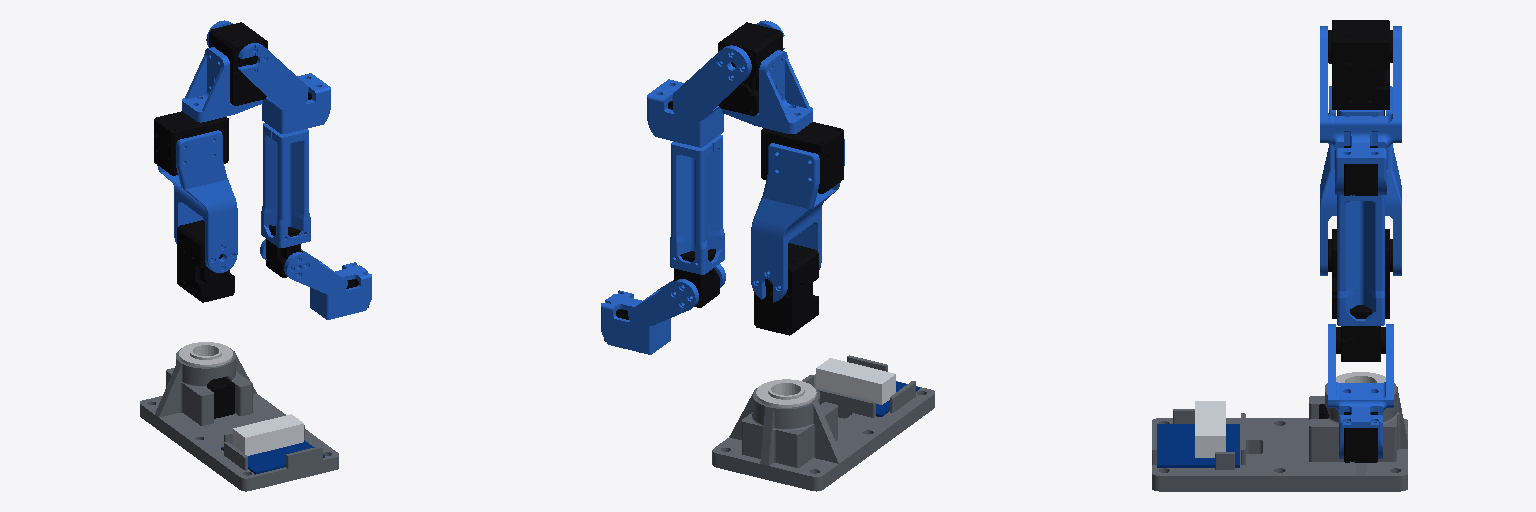
URDF robot description (ditto_leader_3xm_link5b):
<?xml version="1.0"?>
<!-- FACTR-style leader arm for the uFactory xArm7, 1:2 scale, variant 3xm, link 5 option b. Generated by leader/build.py. -->
<!-- Joint frames are the xArm7 joint frames with every length halved: same joint vector => same pose. -->
<!-- Inertial values are estimates from CAD volume and nominal servo masses. -->
<!-- link7 is the tool flange (servo 7 horn): the arm ends there, no handle or gripper is included. -->
<robot name="ditto_leader_3xm_link5b">
  <material name="print_reused"><color rgba="0.42 0.44 0.48 1"/></material>
  <material name="print_new"><color rgba="0.20 0.45 0.85 1"/></material>
  <material name="servo"><color rgba="0.09 0.09 0.10 1"/></material>
  <material name="steel"><color rgba="0.75 0.76 0.78 1"/></material>
  <material name="pcb"><color rgba="0.05 0.25 0.55 1"/></material>
  <material name="u2d2"><color rgba="0.85 0.87 0.90 1"/></material>
  <link name="base_link">
    <visual>
      <origin xyz="0.000000000 0.000000000 0.000000000" rpy="0.000000000000 -0.000000000000 0.000000000000"/>
      <geometry><mesh filename="meshes/factr_base.stl" scale="0.001 0.001 0.001"/></geometry>
      <material name="print_reused"/>
    </visual>
    <visual>
      <origin xyz="0.000000000 0.000000000 0.000000000" rpy="0.000000000000 -0.000000000000 0.000000000000"/>
      <geometry><mesh filename="meshes/bearing_3_4in.stl" scale="0.001 0.001 0.001"/></geometry>
      <material name="steel"/>
    </visual>
    <visual>
      <origin xyz="0.000000000 0.000000000 0.000000000" rpy="0.000000000000 -0.000000000000 0.000000000000"/>
      <geometry><mesh filename="meshes/servo1_xc330.stl" scale="0.001 0.001 0.001"/></geometry>
      <material name="servo"/>
    </visual>
    <visual>
      <origin xyz="0.000000000 0.000000000 0.000000000" rpy="0.000000000000 -0.000000000000 0.000000000000"/>
      <geometry><mesh filename="meshes/power_hub_board.stl" scale="0.001 0.001 0.001"/></geometry>
      <material name="pcb"/>
    </visual>
    <visual>
      <origin xyz="0.000000000 0.000000000 0.000000000" rpy="0.000000000000 -0.000000000000 0.000000000000"/>
      <geometry><mesh filename="meshes/u2d2.stl" scale="0.001 0.001 0.001"/></geometry>
      <material name="u2d2"/>
    </visual>
    <collision>
      <origin xyz="0.000000000 0.000000000 0.000000000" rpy="0.000000000000 -0.000000000000 0.000000000000"/>
      <geometry><mesh filename="meshes/factr_base.stl" scale="0.001 0.001 0.001"/></geometry>
      
    </collision>
  </link>
  <link name="link1">
    <inertial>
      <origin xyz="-0.000000 -0.000000 -0.023192" rpy="0 0 0"/>
      <mass value="0.11109"/>
      <inertia ixx="7.9205e-05" ixy="3.7288e-15" ixz="-3.6903e-17" iyy="7.8156e-05" iyz="-2.8443e-09" izz="2.1080e-05"/>
    </inertial>
    <visual>
      <origin xyz="0.000000000 0.000000000 0.000000000" rpy="0.000000000000 -0.000000000000 0.000000000000"/>
      <geometry><mesh filename="meshes/link1.stl" scale="0.001 0.001 0.001"/></geometry>
      <material name="print_new"/>
    </visual>
    <collision>
      <origin xyz="0.000000000 0.000000000 0.000000000" rpy="0.000000000000 -0.000000000000 0.000000000000"/>
      <geometry><mesh filename="meshes/link1.stl" scale="0.001 0.001 0.001"/></geometry>
      
    </collision>
    <visual>
      <origin xyz="0.000000000 0.000000000 0.000000000" rpy="-1.570796326795 -0.000000000000 -0.000000000000"/>
      <geometry><mesh filename="meshes/xm430.stl" scale="0.001 0.001 0.001"/></geometry>
      <material name="servo"/>
    </visual>
    <collision>
      <origin xyz="0.000000000 0.000000000 -0.012000000" rpy="-1.570796326795 -0.000000000000 -0.000000000000"/>
      <geometry><box size="0.02820 0.04620 0.03370"/></geometry>
    </collision>
  </link>
  <link name="link2">
    <inertial>
      <origin xyz="-0.010090 -0.073403 -0.000052" rpy="0 0 0"/>
      <mass value="0.11747"/>
      <inertia ixx="7.2159e-05" ixy="-9.5948e-06" ixz="6.2016e-08" iyy="3.3283e-05" iyz="4.8195e-07" izz="7.8107e-05"/>
    </inertial>
    <visual>
      <origin xyz="0.000000000 0.000000000 0.000000000" rpy="0.000000000000 -0.000000000000 0.000000000000"/>
      <geometry><mesh filename="meshes/3xm/link2.stl" scale="0.001 0.001 0.001"/></geometry>
      <material name="print_new"/>
    </visual>
    <collision>
      <origin xyz="0.000000000 0.000000000 0.000000000" rpy="0.000000000000 -0.000000000000 0.000000000000"/>
      <geometry><mesh filename="meshes/3xm/link2.stl" scale="0.001 0.001 0.001"/></geometry>
      
    </collision>
    <visual>
      <origin xyz="0.000000000 -0.084250000 0.000000000" rpy="0.000000000000 -1.570796326795 1.570796326795"/>
      <geometry><mesh filename="meshes/xm430.stl" scale="0.001 0.001 0.001"/></geometry>
      <material name="servo"/>
    </visual>
    <collision>
      <origin xyz="-0.012000000 -0.084250000 0.000000000" rpy="0.000000000000 -1.570796326795 1.570796326795"/>
      <geometry><box size="0.02820 0.04620 0.03370"/></geometry>
    </collision>
  </link>
  <link name="link3">
    <inertial>
      <origin xyz="0.023576 0.000000 -0.015003" rpy="0 0 0"/>
      <mass value="0.10004"/>
      <inertia ixx="3.1278e-05" ixy="2.2079e-22" ixz="-4.1165e-06" iyy="3.3821e-05" iyz="-5.8115e-23" izz="2.0995e-05"/>
    </inertial>
    <visual>
      <origin xyz="0.000000000 0.000000000 0.000000000" rpy="0.000000000000 -0.000000000000 0.000000000000"/>
      <geometry><mesh filename="meshes/3xm/link3.stl" scale="0.001 0.001 0.001"/></geometry>
      <material name="print_new"/>
    </visual>
    <collision>
      <origin xyz="0.000000000 0.000000000 0.000000000" rpy="0.000000000000 -0.000000000000 0.000000000000"/>
      <geometry><mesh filename="meshes/3xm/link3.stl" scale="0.001 0.001 0.001"/></geometry>
      
    </collision>
    <visual>
      <origin xyz="0.026250000 0.000000000 0.000000000" rpy="-1.570796326795 0.000000000000 -3.141592653590"/>
      <geometry><mesh filename="meshes/xm430.stl" scale="0.001 0.001 0.001"/></geometry>
      <material name="servo"/>
    </visual>
    <collision>
      <origin xyz="0.026250000 0.000000000 -0.012000000" rpy="-1.570796326795 0.000000000000 -3.141592653590"/>
      <geometry><box size="0.02820 0.04620 0.03370"/></geometry>
    </collision>
  </link>
  <link name="link4">
    <inertial>
      <origin xyz="0.036651 -0.042677 -0.000165" rpy="0 0 0"/>
      <mass value="0.06131"/>
      <inertia ixx="3.0455e-05" ixy="1.3523e-05" ixz="-4.2318e-07" iyy="2.7591e-05" iyz="4.3157e-07" izz="3.6407e-05"/>
    </inertial>
    <visual>
      <origin xyz="0.000000000 0.000000000 0.000000000" rpy="0.000000000000 -0.000000000000 0.000000000000"/>
      <geometry><mesh filename="meshes/link4.stl" scale="0.001 0.001 0.001"/></geometry>
      <material name="print_new"/>
    </visual>
    <collision>
      <origin xyz="0.000000000 0.000000000 0.000000000" rpy="0.000000000000 -0.000000000000 0.000000000000"/>
      <geometry><mesh filename="meshes/link4.stl" scale="0.001 0.001 0.001"/></geometry>
      
    </collision>
    <visual>
      <origin xyz="0.038750000 -0.055500000 0.000000000" rpy="0.000000000000 1.570796326795 -1.570796326795"/>
      <geometry><mesh filename="meshes/xc330.stl" scale="0.001 0.001 0.001"/></geometry>
      <material name="servo"/>
    </visual>
    <collision>
      <origin xyz="0.046250000 -0.055500000 0.000000000" rpy="0.000000000000 1.570796326795 -1.570796326795"/>
      <geometry><box size="0.01970 0.03370 0.02270"/></geometry>
    </collision>
  </link>
  <link name="link5">
    <inertial>
      <origin xyz="0.000002 -0.000000 -0.038523" rpy="0 0 0"/>
      <mass value="0.05309"/>
      <inertia ixx="6.3570e-05" ixy="2.1139e-16" ixz="5.0445e-09" iyy="6.2750e-05" iyz="-9.0503e-16" izz="5.5747e-06"/>
    </inertial>
    <visual>
      <origin xyz="0.000000000 0.000000000 0.000000000" rpy="0.000000000000 -0.000000000000 0.000000000000"/>
      <geometry><mesh filename="meshes/link5b.stl" scale="0.001 0.001 0.001"/></geometry>
      <material name="print_new"/>
    </visual>
    <collision>
      <origin xyz="0.000000000 0.000000000 0.000000000" rpy="0.000000000000 -0.000000000000 0.000000000000"/>
      <geometry><mesh filename="meshes/link5b.stl" scale="0.001 0.001 0.001"/></geometry>
      
    </collision>
    <visual>
      <origin xyz="0.000000000 0.000000000 0.000000000" rpy="-1.570796326795 0.000000000000 -3.141592653590"/>
      <geometry><mesh filename="meshes/xc330_idler.stl" scale="0.001 0.001 0.001"/></geometry>
      <material name="servo"/>
    </visual>
    <collision>
      <origin xyz="0.000000000 0.000000000 -0.007500000" rpy="-1.570796326795 0.000000000000 -3.141592653590"/>
      <geometry><box size="0.01970 0.03370 0.02270"/></geometry>
    </collision>
  </link>
  <link name="link6">
    <inertial>
      <origin xyz="0.037248 0.030539 0.000021" rpy="0 0 0"/>
      <mass value="0.04366"/>
      <inertia ixx="1.1742e-05" ixy="-6.4941e-06" ixz="3.4125e-08" iyy="1.5637e-05" iyz="2.8753e-08" izz="1.8933e-05"/>
    </inertial>
    <visual>
      <origin xyz="0.000000000 0.000000000 0.000000000" rpy="0.000000000000 -0.000000000000 0.000000000000"/>
      <geometry><mesh filename="meshes/link6.stl" scale="0.001 0.001 0.001"/></geometry>
      <material name="print_new"/>
    </visual>
    <collision>
      <origin xyz="0.000000000 0.000000000 0.000000000" rpy="0.000000000000 -0.000000000000 0.000000000000"/>
      <geometry><mesh filename="meshes/link6.stl" scale="0.001 0.001 0.001"/></geometry>
      
    </collision>
    <visual>
      <origin xyz="0.038000000 0.038000000 0.000000000" rpy="0.000000000000 -1.570796326795 -1.570796326795"/>
      <geometry><mesh filename="meshes/xc330.stl" scale="0.001 0.001 0.001"/></geometry>
      <material name="servo"/>
    </visual>
    <collision>
      <origin xyz="0.045500000 0.038000000 0.000000000" rpy="0.000000000000 -1.570796326795 -1.570796326795"/>
      <geometry><box size="0.01970 0.03370 0.02270"/></geometry>
    </collision>
  </link>
  <link name="link7">
    <inertial>
      <origin xyz="0.000000 0.000000 0.002500" rpy="0 0 0"/>
      <mass value="0.00100"/>
      <inertia ixx="2.2083e-08" ixy="0.0000e+00" ixz="0.0000e+00" iyy="2.2083e-08" iyz="0.0000e+00" izz="4.2667e-08"/>
    </inertial>
  </link>
  <joint name="joint1" type="revolute">
    <parent link="base_link"/>
    <child link="link1"/>
    <origin xyz="0.000000000 0.000000000 0.133500000" rpy="0.000000000000 -0.000000000000 0.000000000000"/>
    <axis xyz="0 0 1"/>
    <limit lower="-6.283185307179586" upper="6.283185307179586" effort="0.92" velocity="6.8"/>
  </joint>
  <joint name="joint2" type="revolute">
    <parent link="link1"/>
    <child link="link2"/>
    <origin xyz="0.000000000 0.000000000 0.000000000" rpy="-1.570796326795 -0.000000000000 0.000000000000"/>
    <axis xyz="0 0 1"/>
    <limit lower="-2.059" upper="2.0944" effort="3.0" velocity="6.8"/>
  </joint>
  <joint name="joint3" type="revolute">
    <parent link="link2"/>
    <child link="link3"/>
    <origin xyz="0.000000000 -0.146500000 0.000000000" rpy="1.570796326795 -0.000000000000 0.000000000000"/>
    <axis xyz="0 0 1"/>
    <limit lower="-6.283185307179586" upper="6.283185307179586" effort="3.0" velocity="6.8"/>
  </joint>
  <joint name="joint4" type="revolute">
    <parent link="link3"/>
    <child link="link4"/>
    <origin xyz="0.026250000 0.000000000 0.000000000" rpy="1.570796326795 -0.000000000000 0.000000000000"/>
    <axis xyz="0 0 1"/>
    <limit lower="-0.19198" upper="3.927" effort="3.0" velocity="6.8"/>
  </joint>
  <joint name="joint5" type="revolute">
    <parent link="link4"/>
    <child link="link5"/>
    <origin xyz="0.038750000 -0.171250000 0.000000000" rpy="1.570796326795 -0.000000000000 0.000000000000"/>
    <axis xyz="0 0 1"/>
    <limit lower="-6.283185307179586" upper="6.283185307179586" effort="0.92" velocity="6.8"/>
  </joint>
  <joint name="joint6" type="revolute">
    <parent link="link5"/>
    <child link="link6"/>
    <origin xyz="0.000000000 0.000000000 0.000000000" rpy="1.570796326795 -0.000000000000 0.000000000000"/>
    <axis xyz="0 0 1"/>
    <limit lower="-1.69297" upper="3.141592653589793" effort="0.92" velocity="6.8"/>
  </joint>
  <joint name="joint7" type="revolute">
    <parent link="link6"/>
    <child link="link7"/>
    <origin xyz="0.038000000 0.048500000 0.000000000" rpy="-1.570796326795 -0.000000000000 0.000000000000"/>
    <axis xyz="0 0 1"/>
    <limit lower="-6.283185307179586" upper="6.283185307179586" effort="0.92" velocity="6.8"/>
  </joint>
</robot>

--- What the picture shows (computed from the rendered views, not written in the file) ---
The picture shows the robot from 3 angles, left to right: view 1: azimuth 30°, elevation 25°; view 2: azimuth 150°, elevation 25°; view 3: azimuth 270°, elevation 25°; orthographic projection.
Robot: ditto_leader_3xm_link5b — 8 links, 7 joints (7 revolute); root link base_link; default pose: every joint at zero.
Links seen in each view (by area): view 1: base_link, link2, link5, link3, link4, link6, link1; view 2: base_link, link2, link5, link3, link4, link6, link1; view 3: base_link, link5, link4, link3, link6, link2, link1.
Boxes of the visible links, box(x1,y1,x2,y2) form: base_link: box(140, 342, 338, 491); link2: box(154, 111, 237, 272); link5: box(261, 123, 310, 277); link3: box(182, 22, 267, 122); link4: box(206, 20, 330, 133); link6: box(260, 239, 371, 319); link1: box(177, 220, 234, 302); base_link: box(712, 355, 934, 491); link2: box(751, 122, 844, 302); link5: box(670, 134, 724, 307); link3: box(718, 22, 812, 133); link4: box(647, 20, 784, 147); link6: box(601, 264, 725, 354); link1: box(754, 243, 818, 335); base_link: box(1152, 372, 1407, 491); link5: box(1336, 195, 1385, 361); link4: box(1320, 26, 1401, 195); link3: box(1328, 20, 1392, 116); link6: box(1328, 324, 1393, 462); link2: box(1320, 86, 1401, 275); link1: box(1328, 229, 1392, 318).
Bounding box of the posed robot: 0.1685 × 0.15 × 0.292 m (x, y, z).
16 mesh visuals loaded from 14 distinct referenced files (13 binary STL); not drawn: 1 (reference not matched to a file when rendering).
